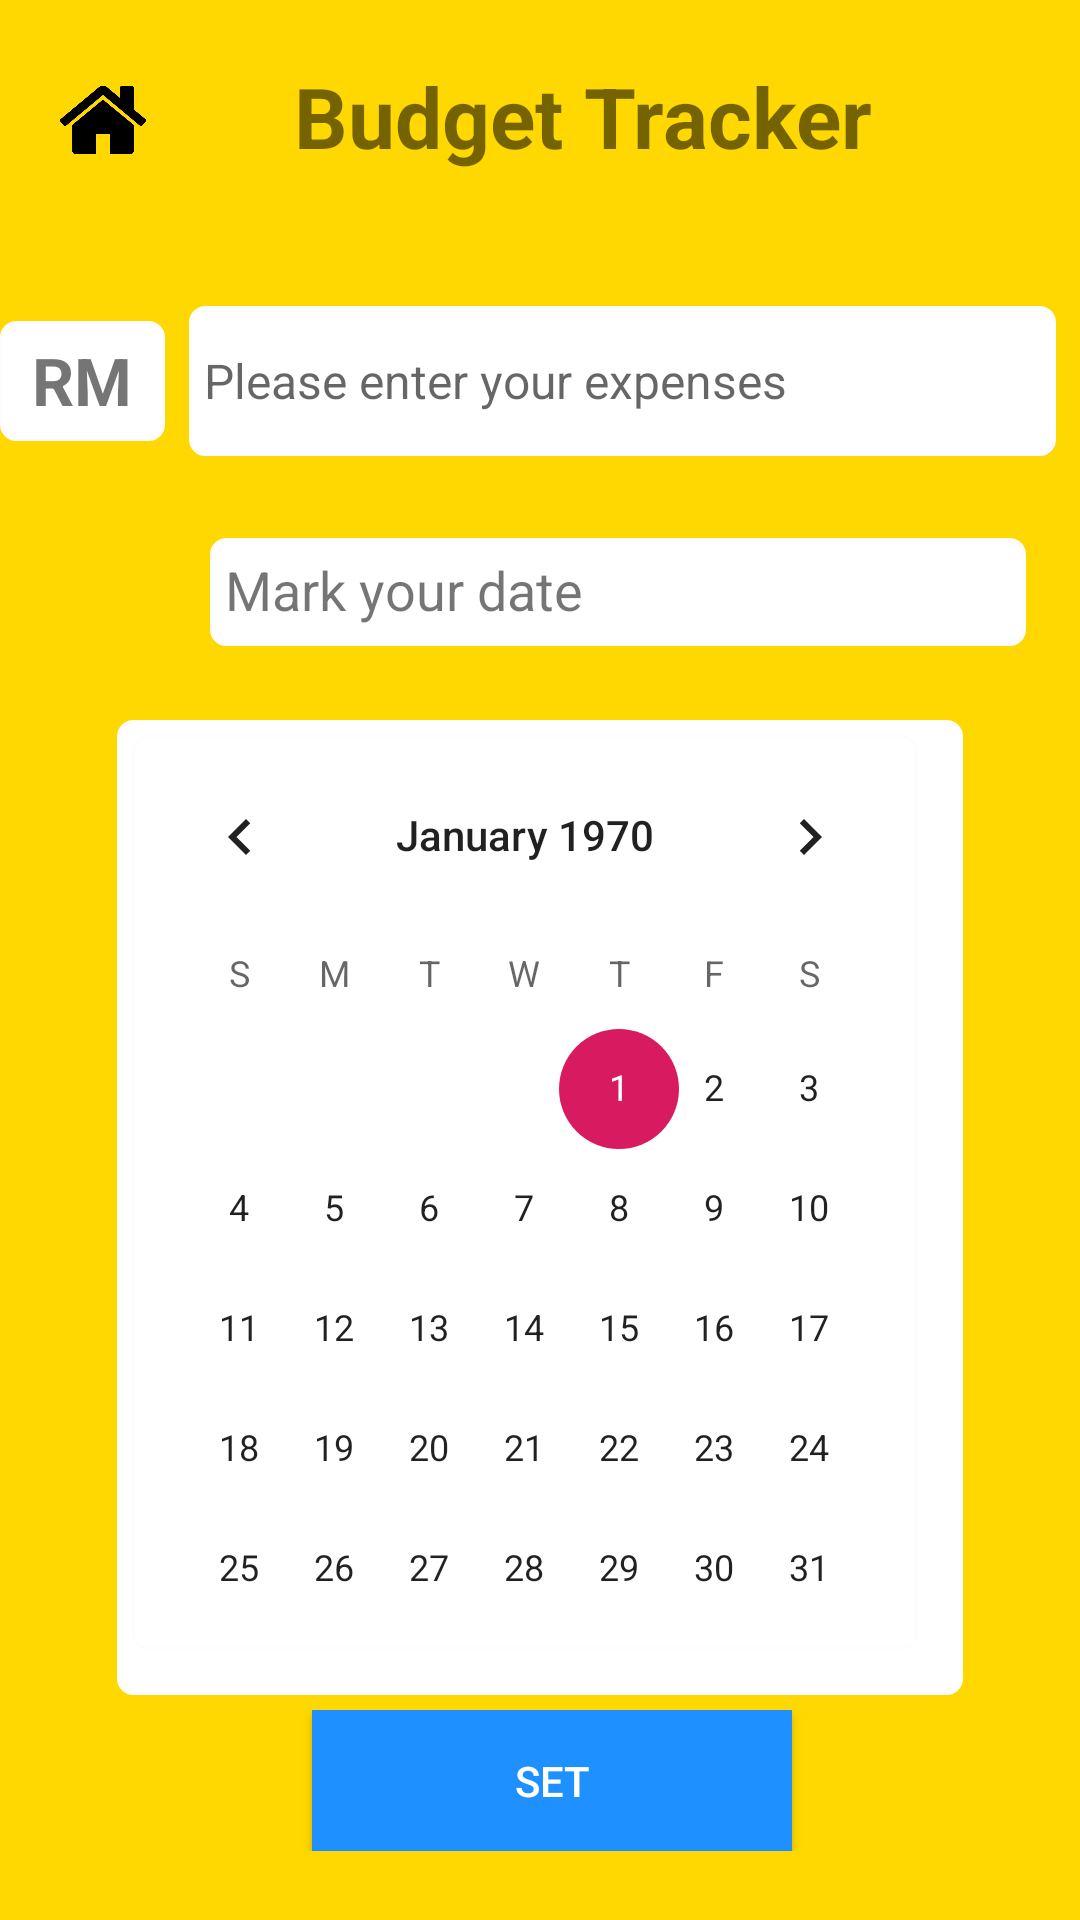

Icons on this 1080px x 1920px Android screen, each with its box as (x1, y1, x2, y2):
home: (60, 86, 146, 154)
